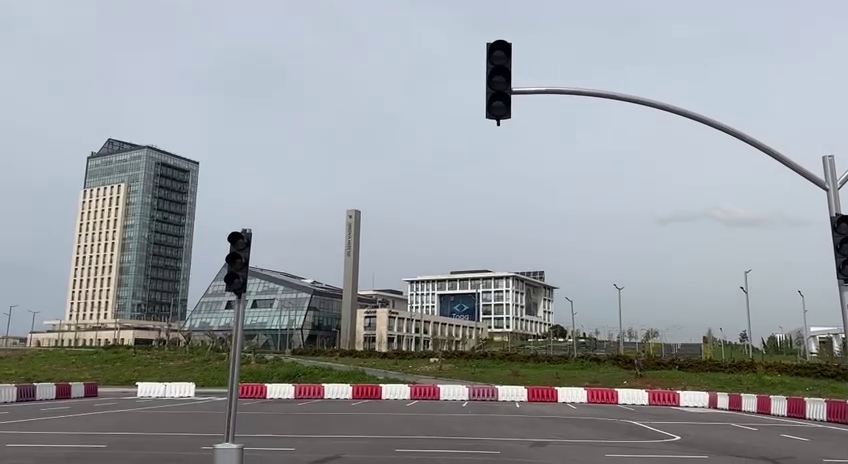trafficLight: (479, 34, 518, 129), (220, 225, 255, 301), (830, 211, 848, 282)
